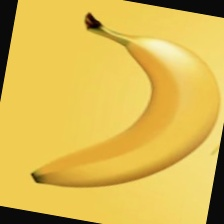banana: (15, 0, 172, 187)
